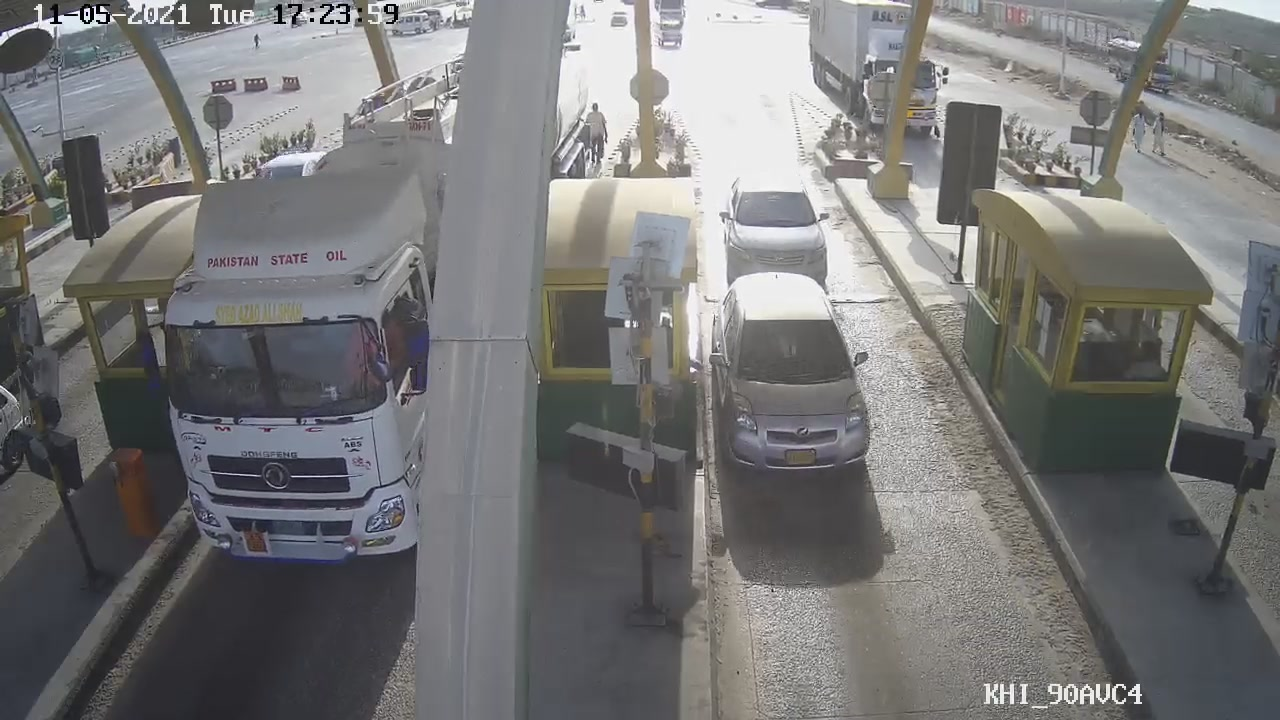F1: (709, 267, 886, 479)
